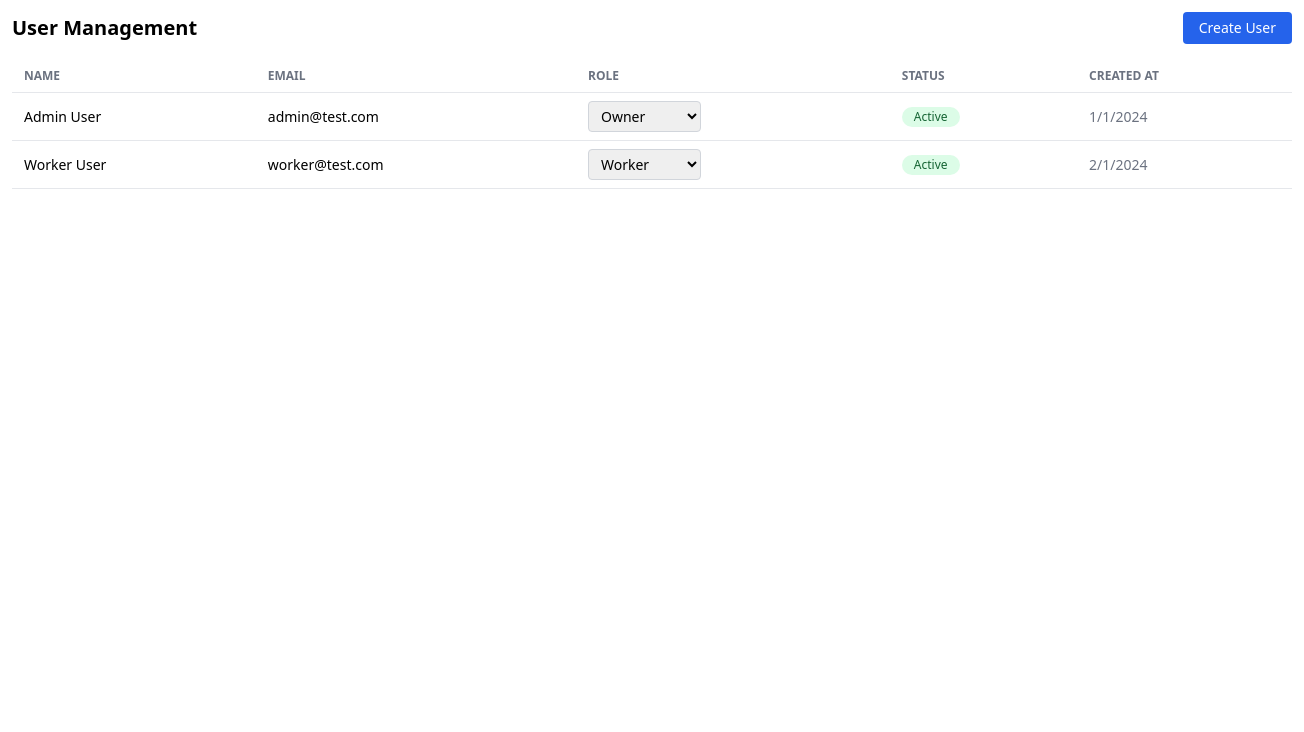
Test: AdminUsersPage › shows create user form on button click
This screenshot has width=1304, height=732.
Expected: the table with test id "user-table" is shown, [12,60,1292,189]
Click the button with test id "create-user-button": (1237, 28) [1183,12,1292,44]
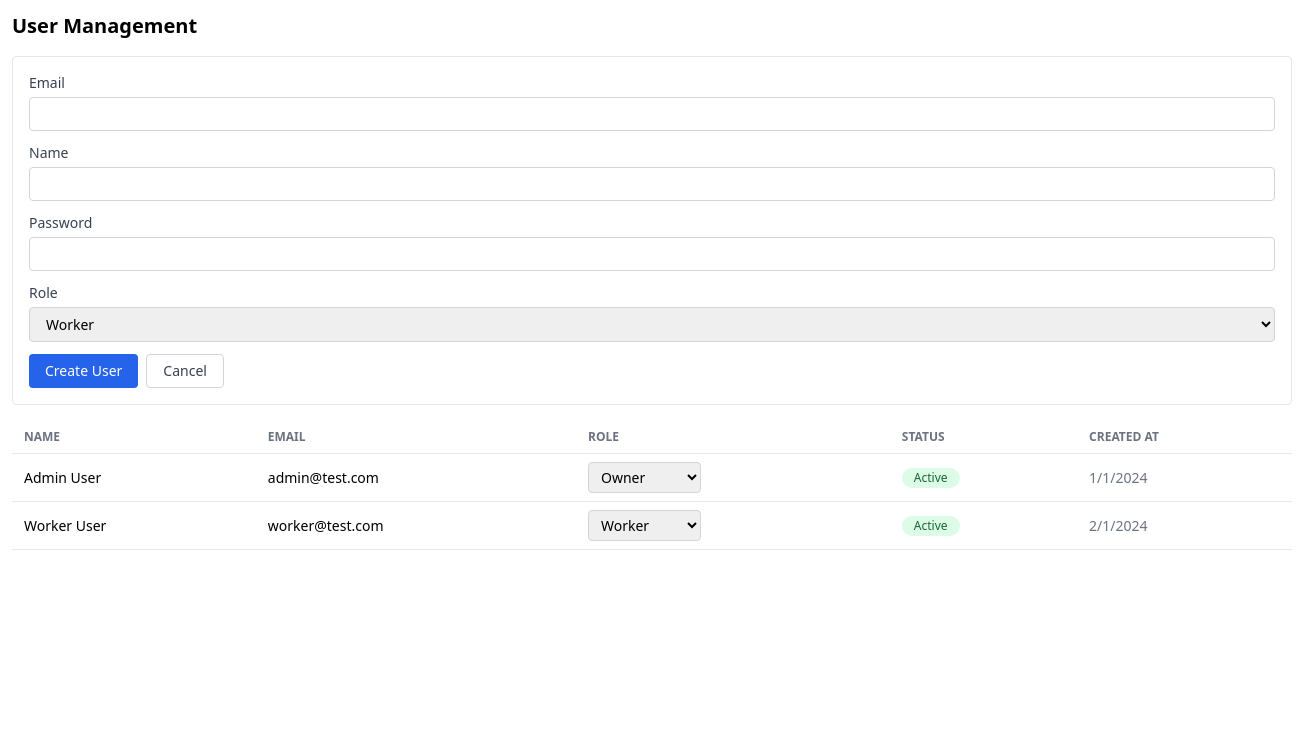
Now the form with test id "user-form" is shown, box [12,56,1292,405]
